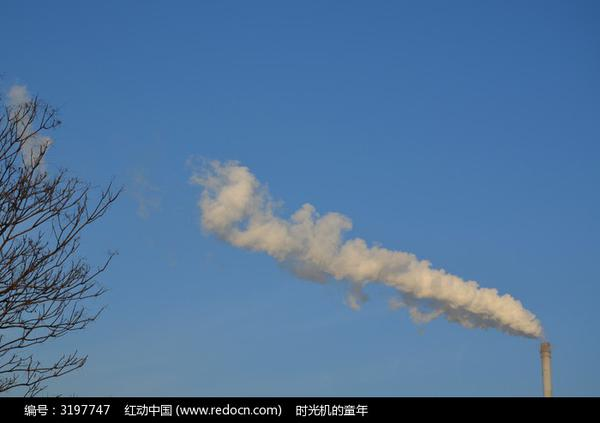dust: (209, 175, 564, 352)
